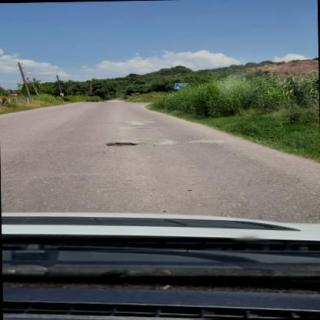pothole: (106, 142, 142, 147)
